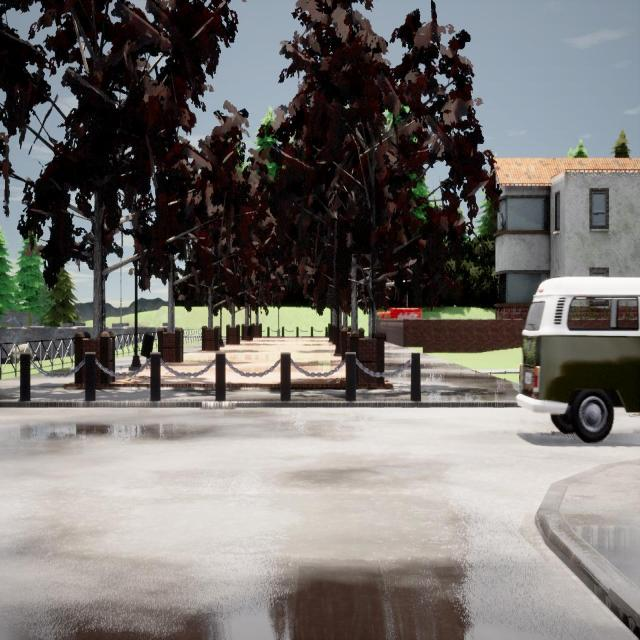Vehicle: (516, 277, 640, 442), (376, 307, 422, 320)
